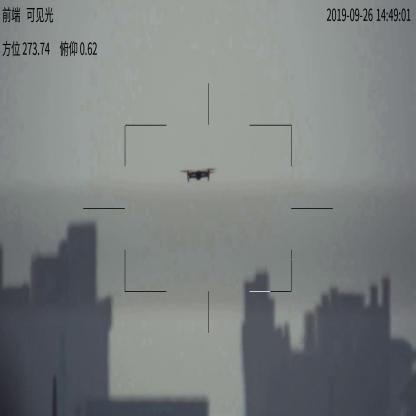uav: (182, 166, 215, 186)
